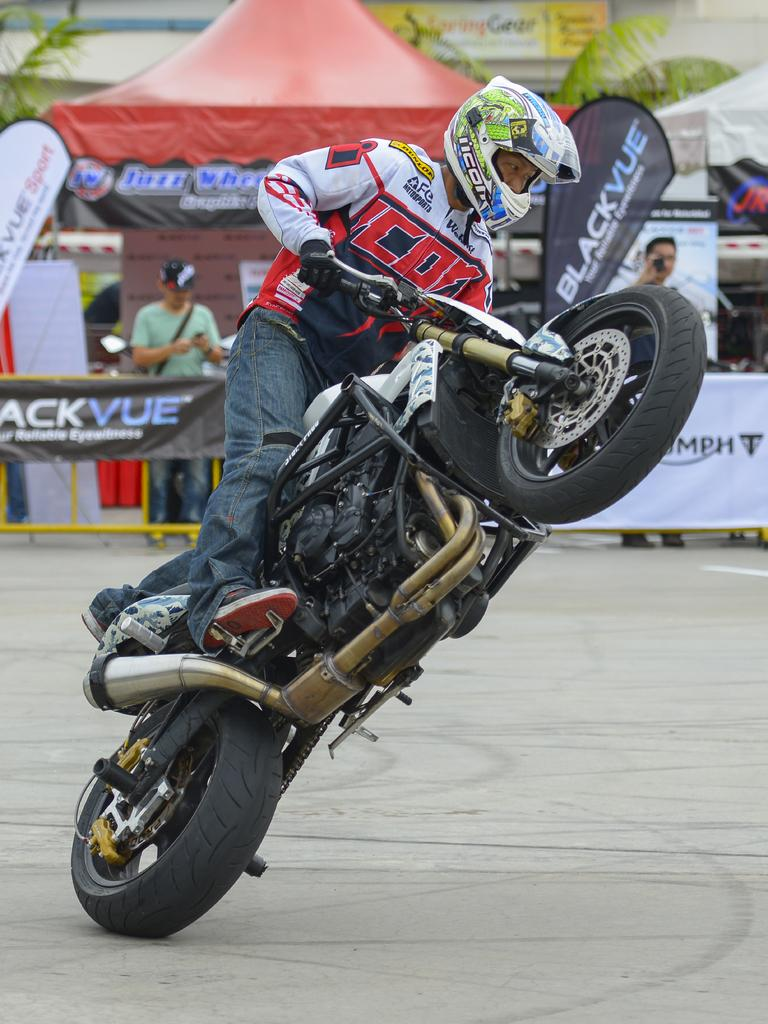helmet: (444, 75, 582, 232)
nohelmet: (156, 258, 197, 309), (645, 236, 678, 283)
